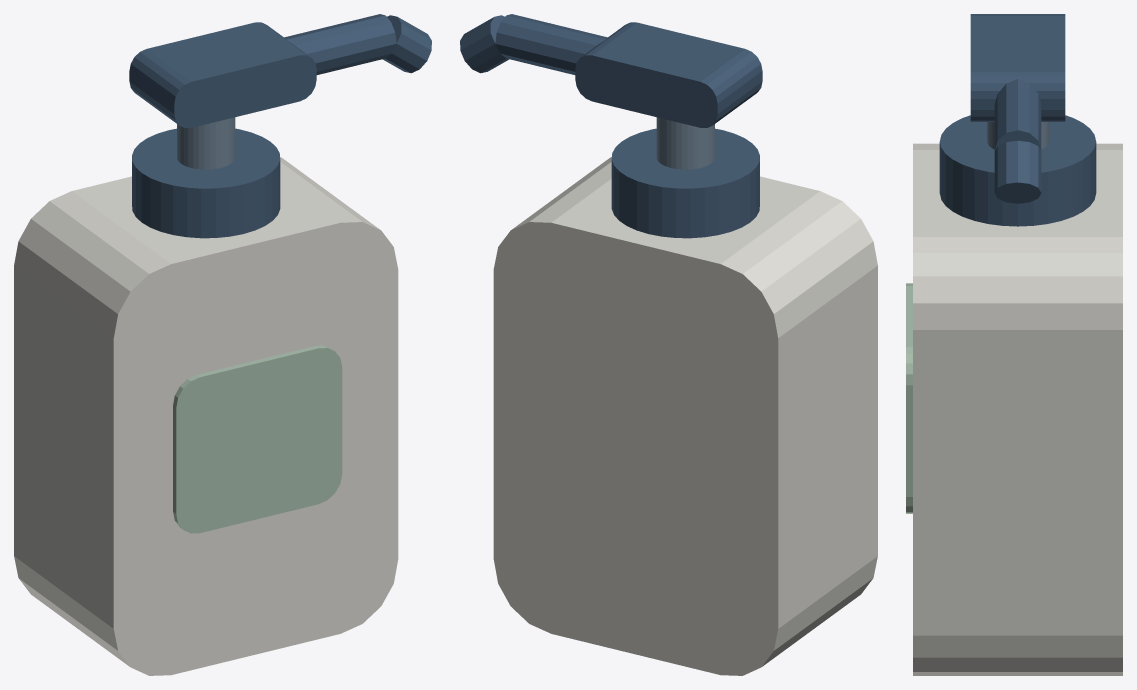
File: pump.glb
3 views of the same model, side by side, from view 1: azimuth 30°, elevation 25°; view 2: azimuth 150°, elevation 25°; view 3: azimuth 270°, elevation 25° (orthographic). The views are drawn at different scales.
Parts seen in each view (by area): view 1: bottle body, label, pump head, neck, spout0, piston, spout1; view 2: bottle body, pump head, neck, spout0, piston, spout1; view 3: bottle body, neck, pump head, spout1, spout0, label, piston.
Part boxes in pixels (box(x1,y1,x2,y2)): bottle body: box(14, 157, 398, 675); label: box(173, 345, 342, 533); pump head: box(129, 22, 316, 127); neck: box(132, 128, 280, 238); spout0: box(284, 14, 396, 74); piston: box(177, 117, 235, 169); spout1: box(383, 15, 431, 73); bottle body: box(493, 157, 877, 675); pump head: box(575, 22, 762, 127); neck: box(611, 128, 759, 238); spout0: box(495, 14, 607, 74); piston: box(656, 117, 714, 169); spout1: box(460, 15, 508, 73); bottle body: box(913, 143, 1122, 675); neck: box(939, 115, 1096, 226); pump head: box(970, 14, 1065, 121); spout1: box(994, 140, 1041, 203); spout0: box(994, 79, 1041, 150); label: box(906, 283, 912, 513); piston: box(987, 122, 1048, 149).
Size of the model in its own units: 1.07 by 1.58 by 0.527.
